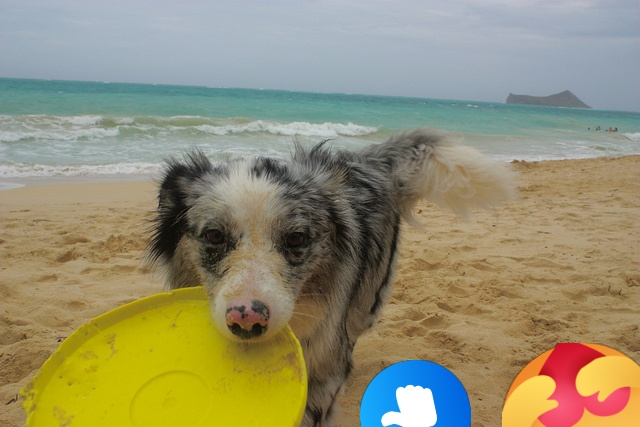care: (502, 343, 640, 427)
like: (360, 360, 471, 427)
